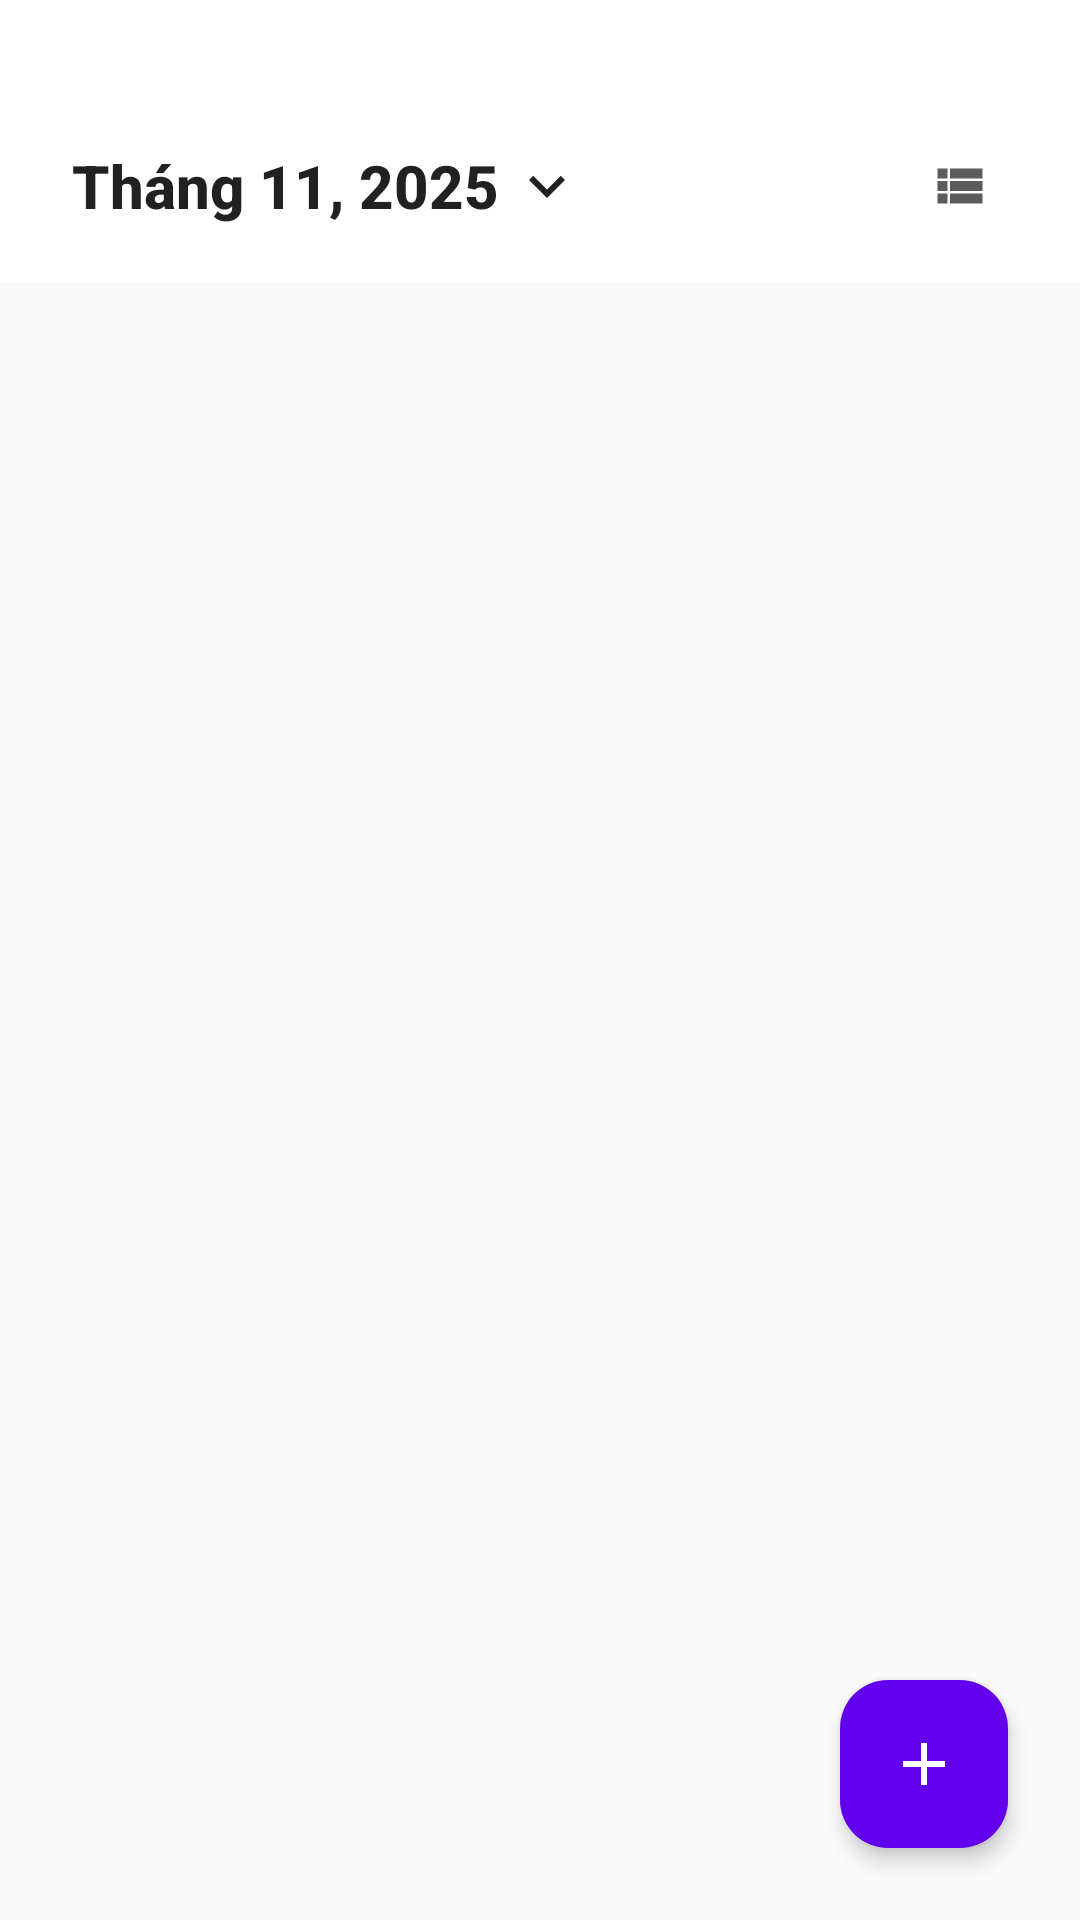

Where icons sit on this 1080px x 1920px app screen, as (x1, y1, x2, y2):
view list: (937, 168, 983, 204)
Viết nhật ký: (840, 1680, 1008, 1848)
